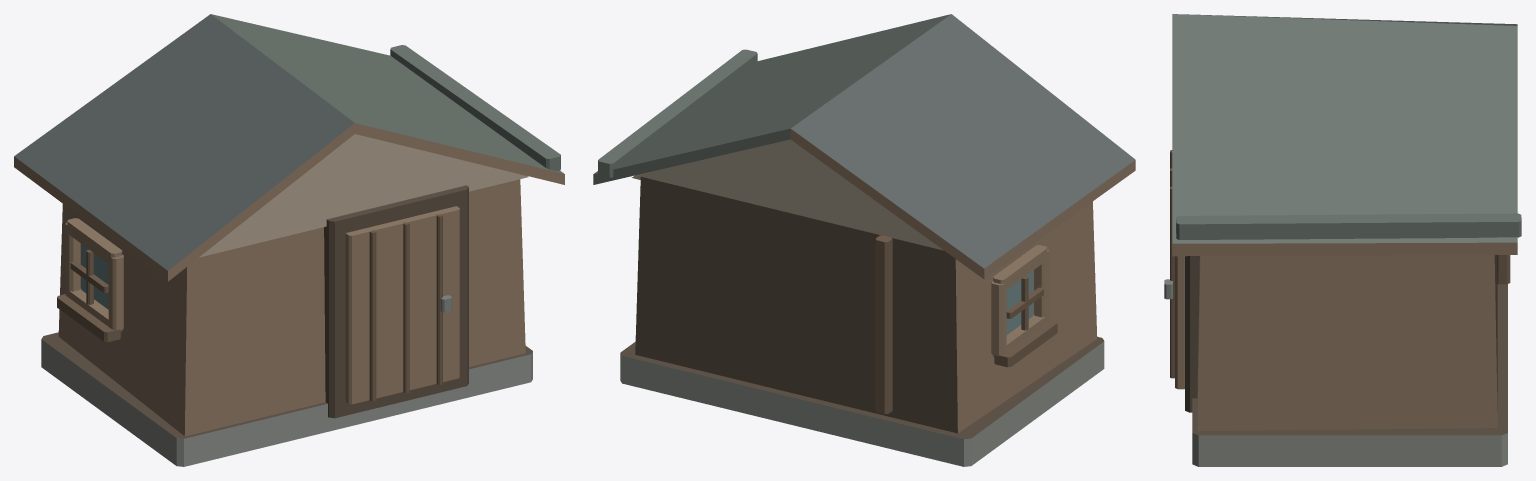
File: h049-outbuilding-source.glb
3 renders of one model, left to right at view 1: azimuth 30°, elevation 25°; view 2: azimuth 150°, elevation 25°; view 3: azimuth 270°, elevation 25°, orthographic. The views are drawn at different scales.
Visible parts, largest first — view 1: VariantA_Shed_Roof_LOD0, VariantA_Shed_Wall_LOD0, VariantA_Shed_Door_Panel_LOD0, VariantA_Shed_Foundation_LOD0, VariantA_Shed_GableFront_LOD0, VariantA_Shed_Door_Recess_LOD0, VariantA_Shed_SideEave_LOD0, VariantA_Shed_Door_Plank_00_LOD0, VariantA_Shed_Door_Plank_01_LOD0, VariantA_Shed_SideWindow_Left_LOD0, VariantA_Shed_Door_Plank_02_LOD0, VariantA_Shed_SideWindow_Top_LOD0 (+4 smaller); view 2: VariantA_Shed_Wall_LOD0, VariantA_Shed_Roof_LOD0, VariantA_Shed_Foundation_LOD0, VariantA_Shed_GableBack_LOD0, VariantA_Shed_SideEave_LOD0, VariantA_Shed_RearBatten_LOD0, VariantA_Shed_SideWindow_Right_LOD0, VariantA_Shed_SideWindow_Top_LOD0, VariantA_Shed_SideWindow_Sill_LOD0, VariantA_Shed_SideWindow_Inset_LOD0, VariantA_Shed_SideWindow_Left_LOD0, VariantA_Shed_SideWindow_Bottom_LOD0; view 3: VariantA_Shed_Roof_LOD0, VariantA_Shed_Wall_LOD0, VariantA_Shed_Foundation_LOD0, VariantA_Shed_SideEave_LOD0, VariantA_Shed_Door_Recess_LOD0, VariantA_Shed_Door_Panel_LOD0, VariantA_Shed_Door_Plank_02_LOD0, VariantA_Shed_RearBatten_LOD0.
Boxes of the visible parts, box(x1,y1,x2,y2) form: VariantA_Shed_Roof_LOD0: box(14, 14, 564, 281); VariantA_Shed_Wall_LOD0: box(58, 179, 525, 436); VariantA_Shed_Door_Panel_LOD0: box(345, 206, 459, 404); VariantA_Shed_Foundation_LOD0: box(41, 332, 532, 466); VariantA_Shed_GableFront_LOD0: box(199, 134, 528, 257); VariantA_Shed_Door_Recess_LOD0: box(324, 185, 468, 418); VariantA_Shed_SideEave_LOD0: box(390, 45, 560, 171); VariantA_Shed_Door_Plank_00_LOD0: box(369, 230, 376, 401); VariantA_Shed_Door_Plank_01_LOD0: box(403, 221, 409, 393); VariantA_Shed_SideWindow_Left_LOD0: box(108, 255, 123, 330); VariantA_Shed_Door_Plank_02_LOD0: box(436, 214, 442, 385); VariantA_Shed_SideWindow_Top_LOD0: box(67, 218, 122, 263); VariantA_Shed_Wall_LOD0: box(635, 176, 1097, 433); VariantA_Shed_Roof_LOD0: box(593, 14, 1135, 279); VariantA_Shed_Foundation_LOD0: box(620, 337, 1104, 466); VariantA_Shed_GableBack_LOD0: box(632, 139, 942, 249); VariantA_Shed_SideEave_LOD0: box(598, 49, 757, 177); VariantA_Shed_RearBatten_LOD0: box(875, 235, 892, 413); VariantA_Shed_SideWindow_Right_LOD0: box(991, 281, 1006, 356); VariantA_Shed_SideWindow_Top_LOD0: box(993, 245, 1047, 291); VariantA_Shed_SideWindow_Sill_LOD0: box(994, 320, 1057, 367); VariantA_Shed_SideWindow_Inset_LOD0: box(1006, 270, 1033, 334); VariantA_Shed_SideWindow_Left_LOD0: box(1034, 249, 1048, 323); VariantA_Shed_SideWindow_Bottom_LOD0: box(993, 314, 1045, 357); VariantA_Shed_Roof_LOD0: box(1172, 14, 1517, 256); VariantA_Shed_Wall_LOD0: box(1197, 255, 1497, 431); VariantA_Shed_Foundation_LOD0: box(1192, 284, 1507, 466); VariantA_Shed_SideEave_LOD0: box(1176, 213, 1521, 239); VariantA_Shed_Door_Recess_LOD0: box(1185, 256, 1199, 412); VariantA_Shed_Door_Panel_LOD0: box(1175, 256, 1184, 389); VariantA_Shed_Door_Plank_02_LOD0: box(1170, 186, 1174, 378); VariantA_Shed_RearBatten_LOD0: box(1497, 255, 1510, 284).
Size of the model in its own units: 4.14 by 3.1 by 2.88.
